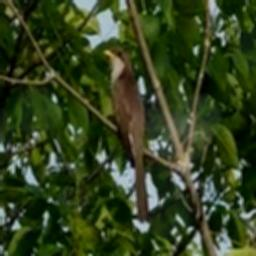Cuckoo: (102, 47, 149, 221)
